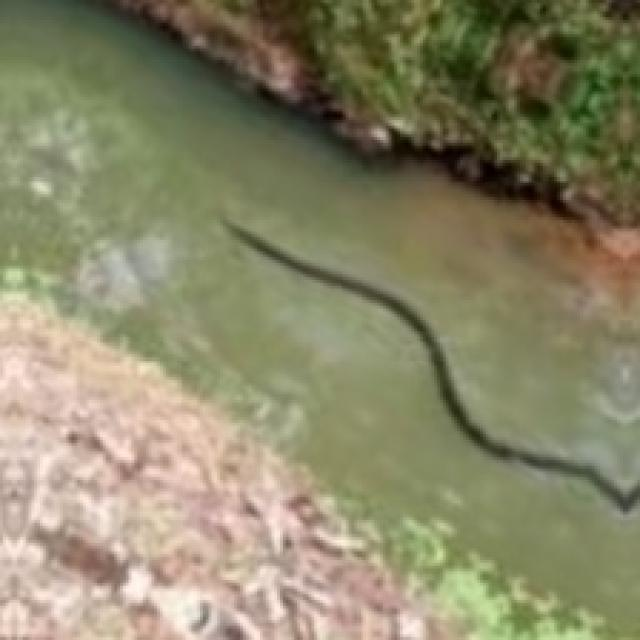king cobra: (220, 217, 637, 511)
